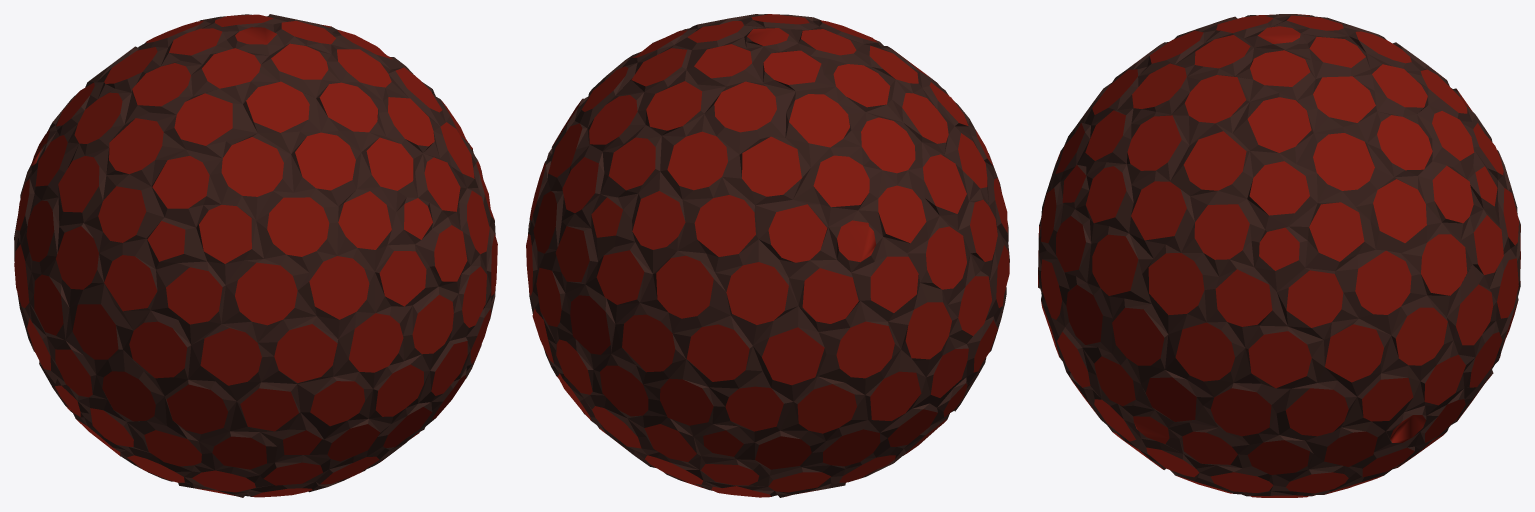
Rendered from Planet19.glb.
3 renders of one model, left to right at view 1: azimuth 30°, elevation 25°; view 2: azimuth 150°, elevation 25°; view 3: azimuth 270°, elevation 25°, orthographic.
Visible parts, largest first — view 1: Planet_19; view 2: Planet_19; view 3: Planet_19.
Part boxes in pixels (<box>): Planet_19: <box>14,14,497,497</box>; Planet_19: <box>526,14,1009,497</box>; Planet_19: <box>1038,14,1520,497</box>.
Size of the model in its own units: 3.64 by 3.68 by 3.64.
